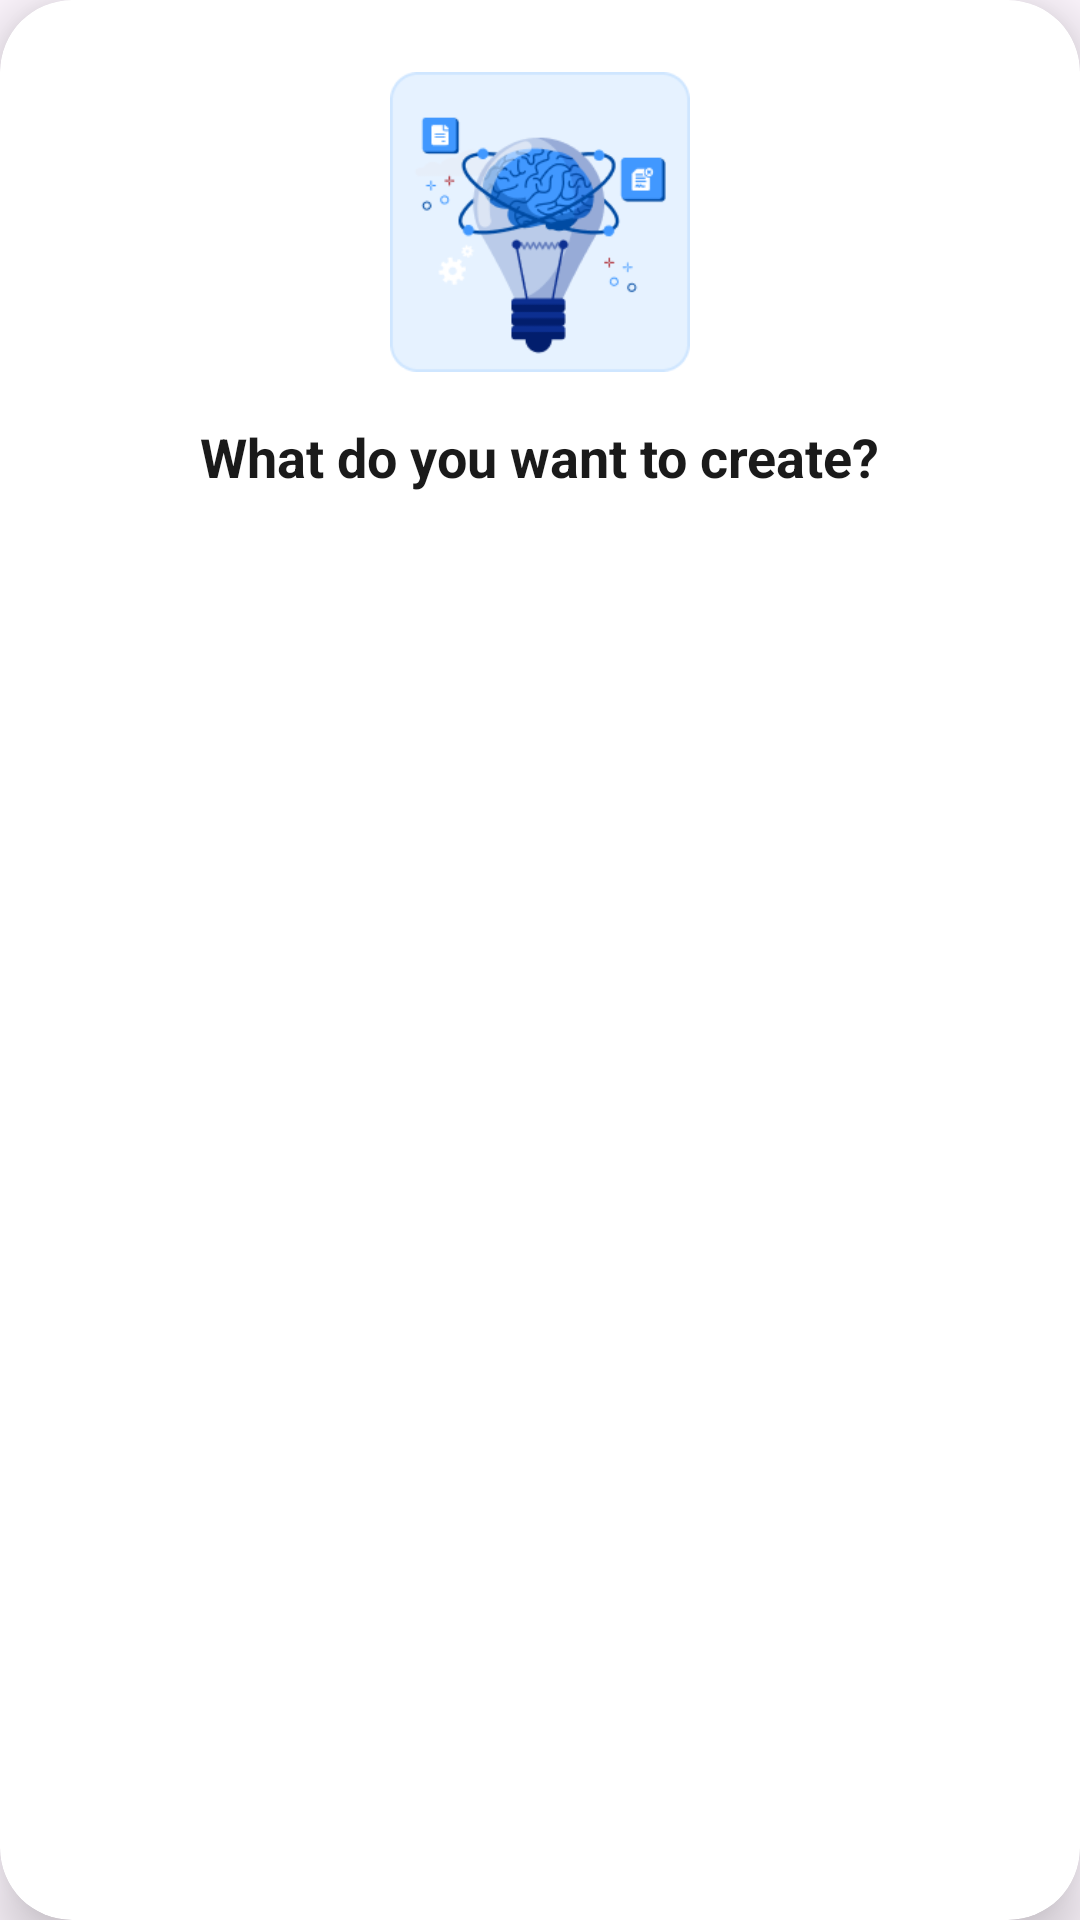

Icon bounding boxes for this 1080*1920 phone screenshot, format (x1, y1, x2, y2):
AI Assistant: (390, 72, 690, 372)
